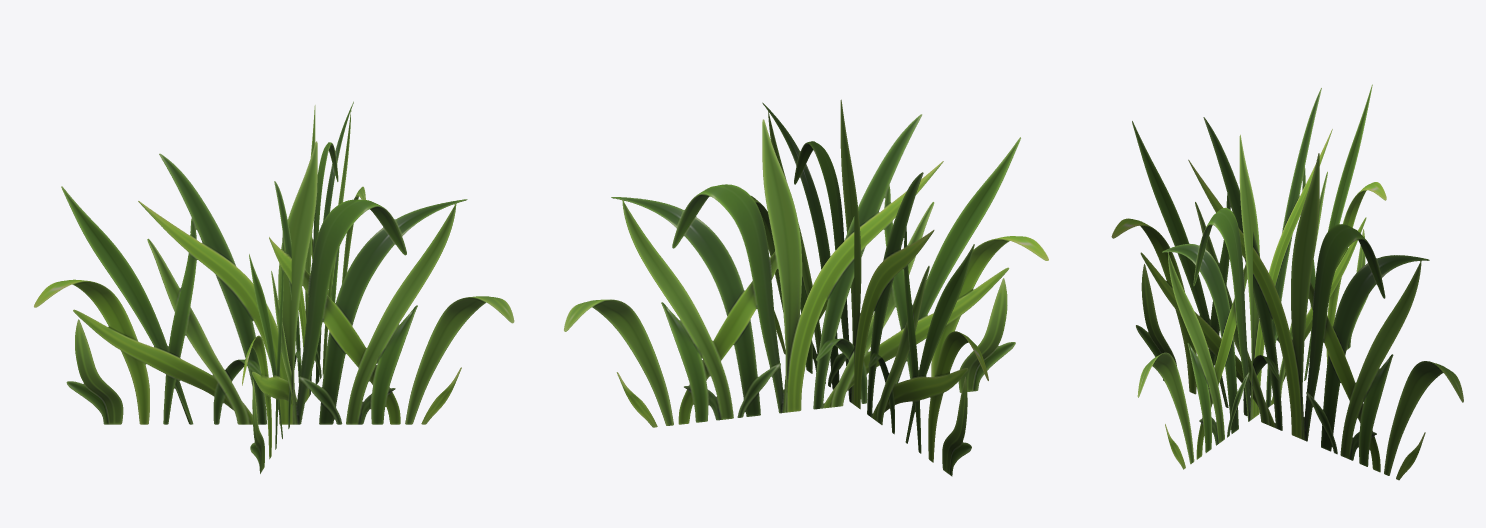
The model's file is Grass_shett4.fbx.
3 views of the same model, side by side, from view 1: azimuth 30°, elevation 25°; view 2: azimuth 150°, elevation 25°; view 3: azimuth 270°, elevation 25° (orthographic). The views are drawn at different scales.
Visible parts, largest first — view 1: Grass_sheet4; view 2: Grass_sheet4; view 3: Grass_sheet4.
Part boxes in pixels (x1,y1,x2,y2): Grass_sheet4: (34, 101, 514, 473); Grass_sheet4: (564, 99, 1048, 476); Grass_sheet4: (1111, 84, 1463, 480).
Bounding box in the file's own units: 44.18 × 31.52 × 35.36.
